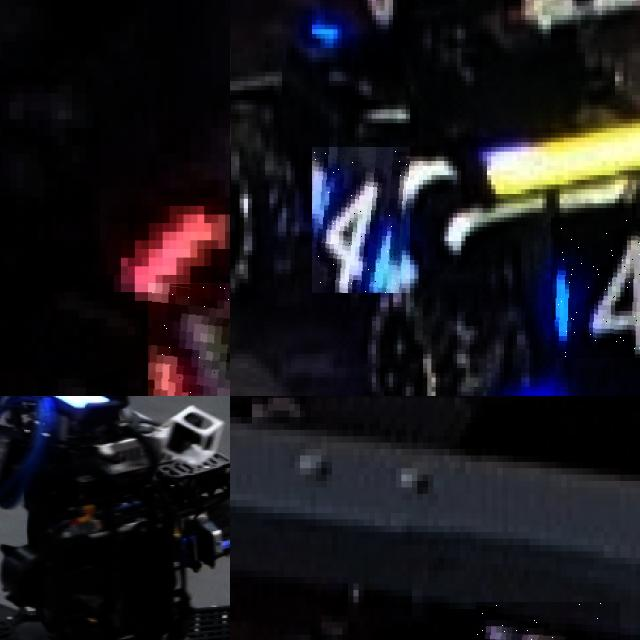B4: (312, 147, 410, 293), (551, 217, 640, 358)
R1: (148, 283, 230, 396)
R3: (476, 602, 620, 640)
